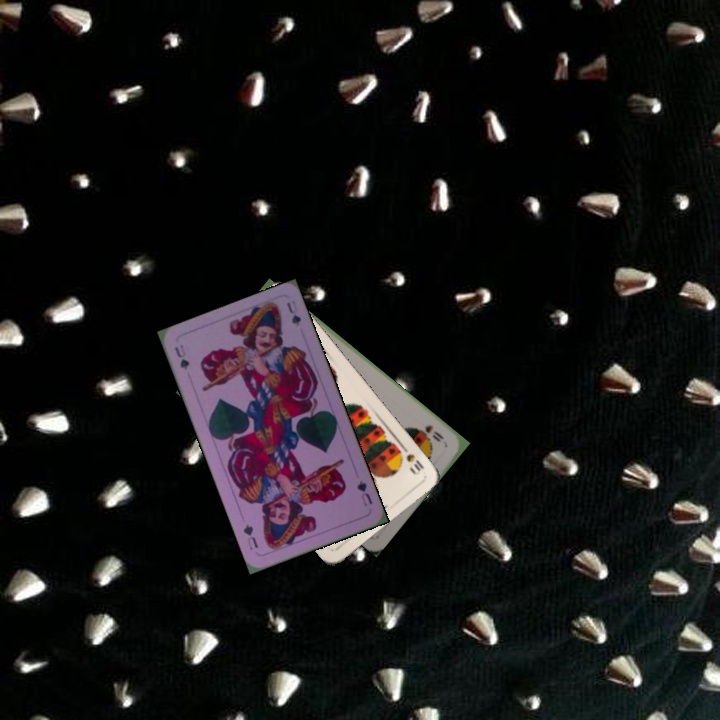GU: (353, 476, 375, 509), (171, 340, 192, 373)
S10: (396, 440, 427, 476)
SO: (421, 421, 447, 445)
